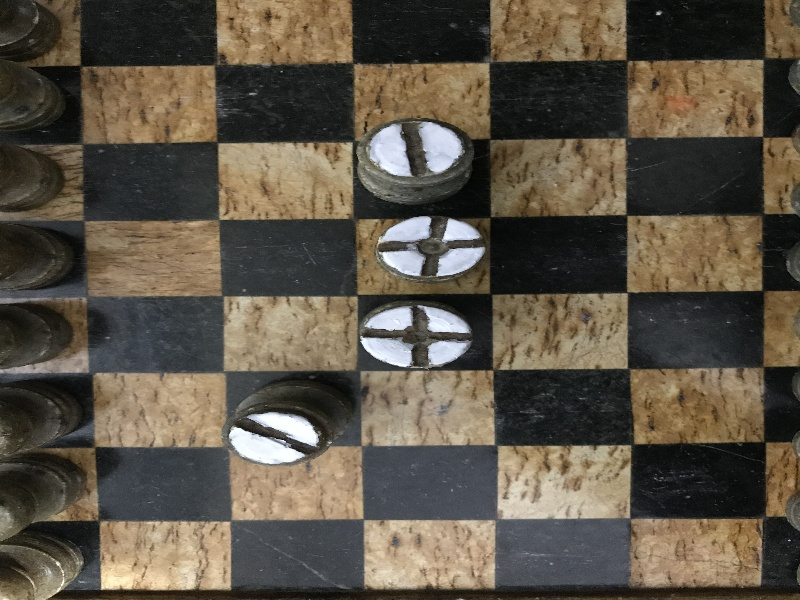WhiteBishop: (376, 213, 485, 283), (359, 301, 472, 368)
WhiteRook: (223, 377, 352, 465), (357, 118, 474, 204)
